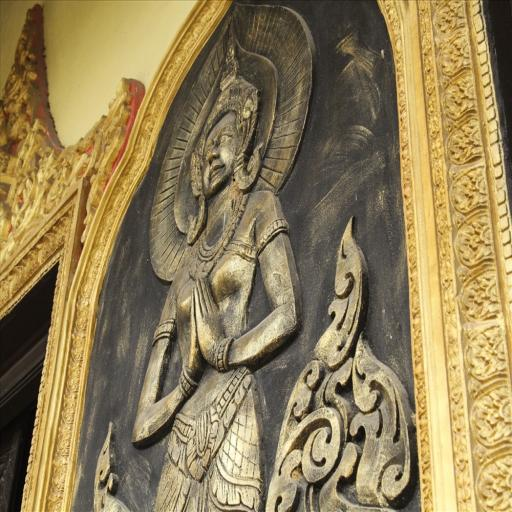la: (262, 344, 345, 512), (346, 329, 424, 506), (305, 198, 371, 358), (87, 413, 131, 512), (466, 322, 512, 384), (455, 278, 506, 327), (453, 215, 497, 271), (469, 390, 512, 445), (446, 165, 491, 213), (444, 123, 490, 169), (474, 461, 512, 510), (440, 76, 483, 118), (436, 31, 474, 74), (436, 0, 470, 33)
than: (134, 10, 308, 512)
